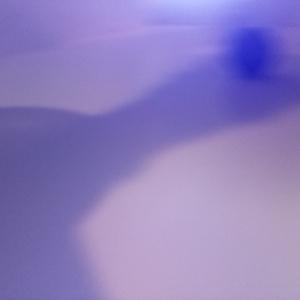dead_ball: (227, 27, 278, 77)
